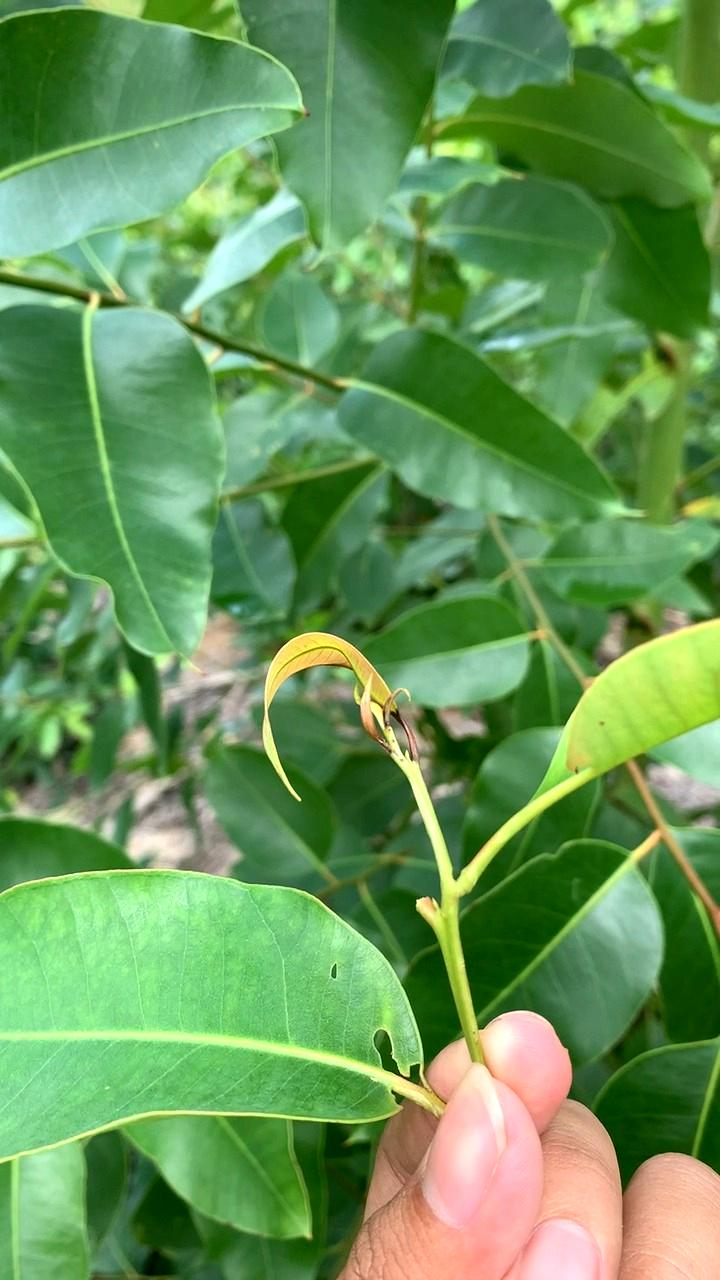Helopeltis-Withered Sprout: (241, 618, 415, 801)
